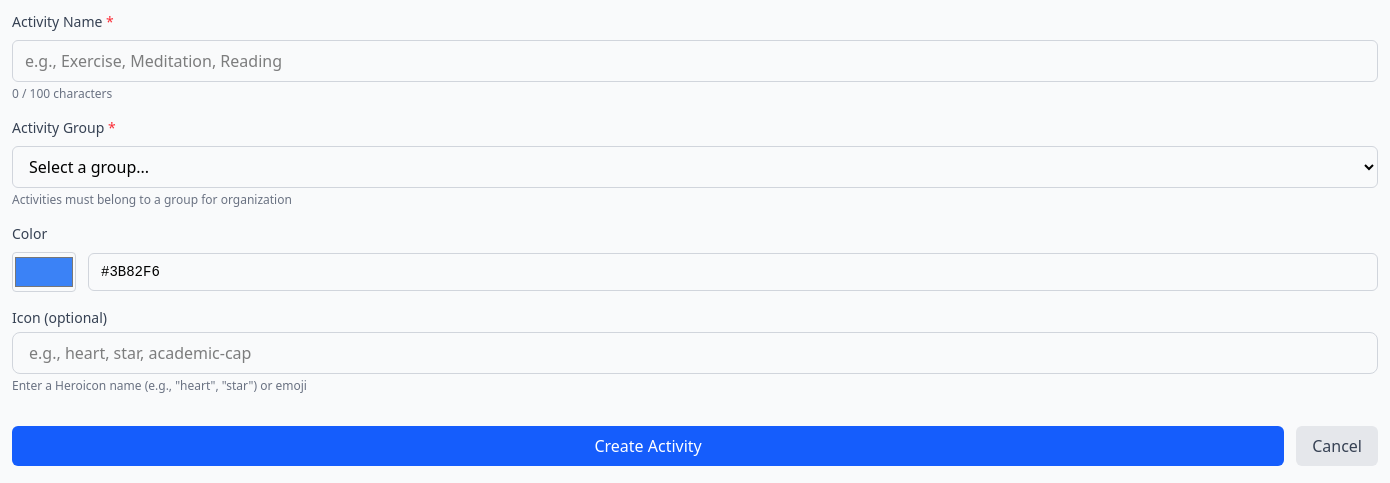
Test case: ActivityForm › Form Fields › should update character counter on typing
The image size is (1390, 483).
Type "Meditation" into the field with id "activity-name" at [695, 61], box [12, 40, 1378, 82]
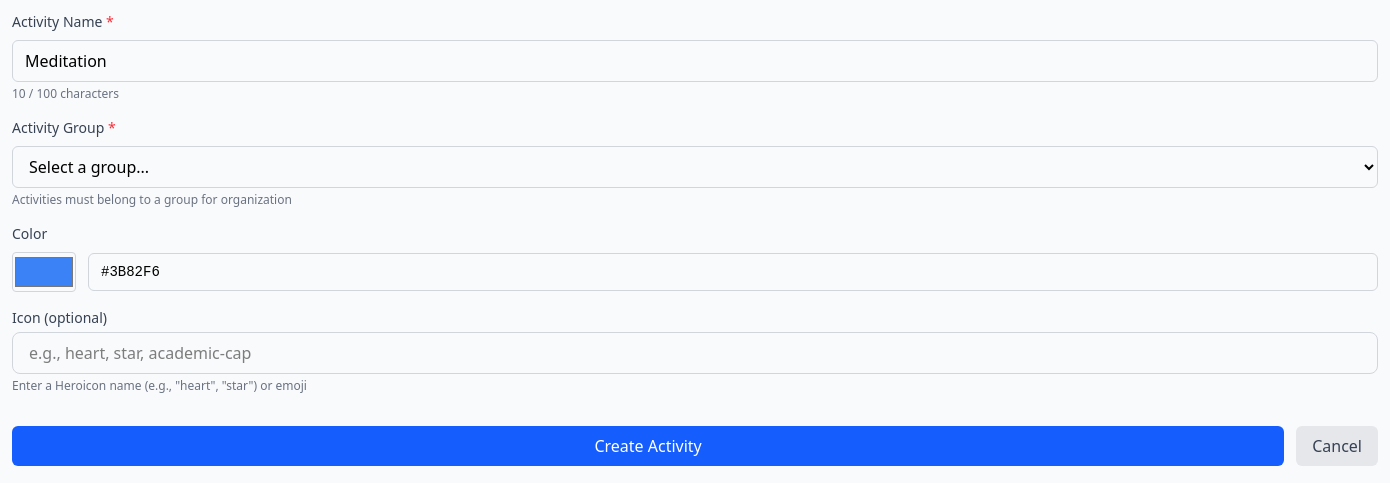
Expected: the text "10 / 100 characters" is shown, [12, 85, 119, 102]
